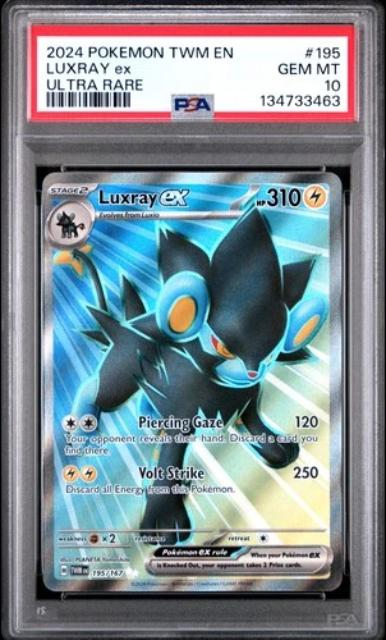Card: (40, 165, 346, 595)
Name: (92, 183, 195, 210)
